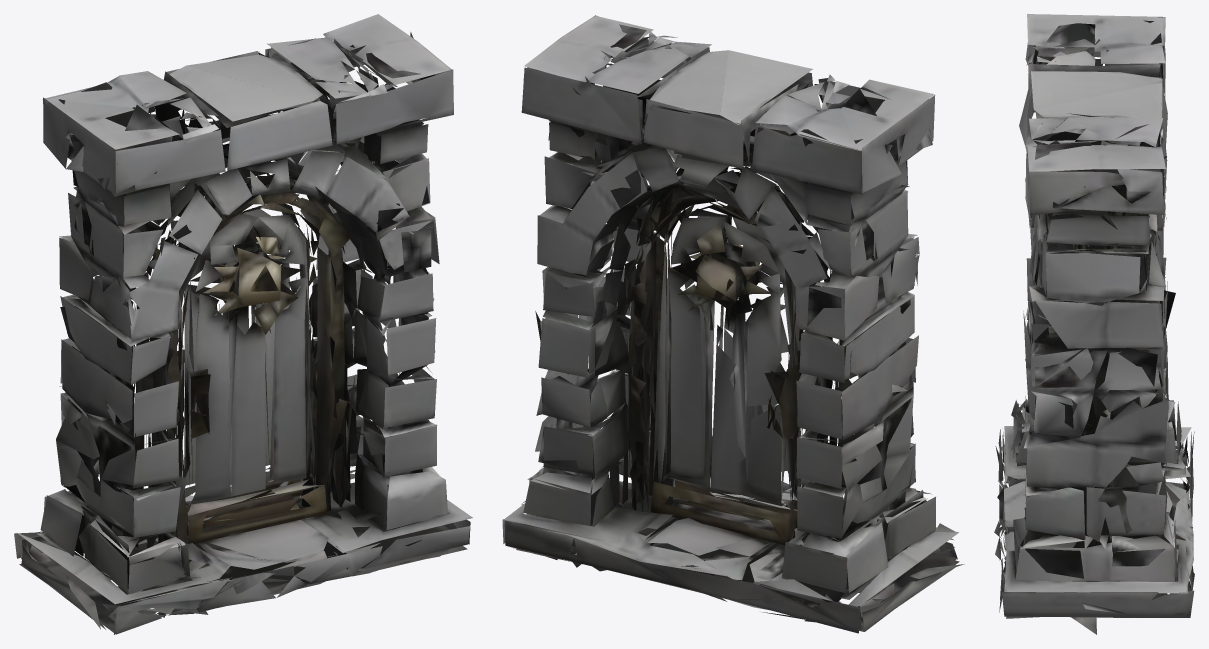
File: lan_sealed_sun_door.glb
3 renders of one model, left to right at view 1: azimuth 30°, elevation 25°; view 2: azimuth 150°, elevation 25°; view 3: azimuth 270°, elevation 25°, orthographic. The views are drawn at different scales.
Visible parts, largest first — view 1: MetricPlacement; view 2: MetricPlacement; view 3: MetricPlacement.
Boxes of the visible parts, left/top/right/bottom form: MetricPlacement: left=14, top=14, right=472, bottom=634; MetricPlacement: left=502, top=15, right=964, bottom=633; MetricPlacement: left=994, top=14, right=1194, bottom=634.
Bounding box in the file's own units: 2.53 × 3.3 × 1.26.
1 material, 1 textured.
